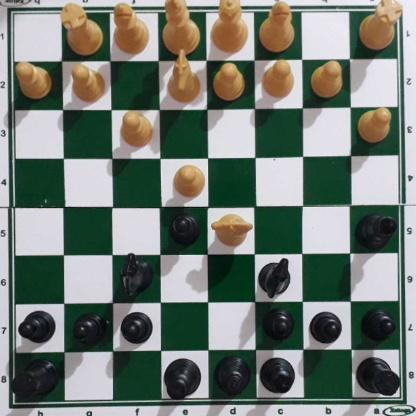black-bishop: (355, 215, 400, 251), (258, 358, 298, 395)
black-king: (164, 358, 203, 404)
black-knight: (121, 256, 154, 301), (260, 262, 293, 301)
black-pawn: (20, 311, 56, 347), (167, 214, 201, 250), (121, 314, 154, 349), (362, 312, 396, 344), (74, 315, 105, 349), (312, 312, 343, 346), (264, 311, 294, 345)
black-queen: (214, 356, 252, 400)
black-rook: (14, 361, 58, 406), (357, 358, 404, 400)
white-bishop: (259, 0, 295, 52), (113, 5, 150, 55)
white-king: (162, 0, 202, 57)
white-knight: (165, 49, 202, 106), (214, 214, 255, 248)
white-pawn: (70, 66, 107, 106), (16, 65, 53, 102), (121, 112, 156, 151), (358, 109, 395, 145), (264, 62, 297, 102), (312, 63, 346, 101), (214, 65, 247, 103), (174, 166, 207, 200)
white-queen: (210, 0, 250, 55)
white-rook: (361, 1, 401, 56), (63, 3, 101, 59)
